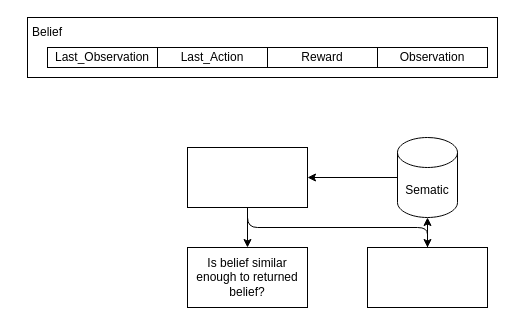
The diagram is 515 pixels wide and 325 high, and some of its shapes have lost their labels. The shapes that lost their labels are listed below. From the top down, each one's centre as x and y in pixels, then its label:
At point (247, 177): "Does belief already exist?".
At point (427, 277): "Save new Belief".
